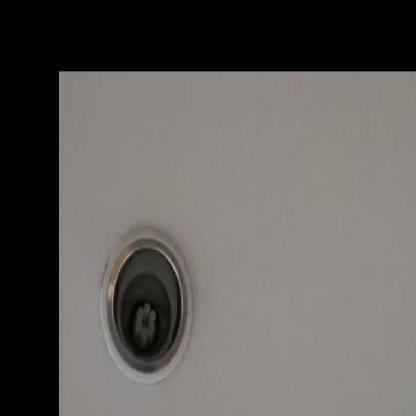light_off: (88, 186, 200, 390)
